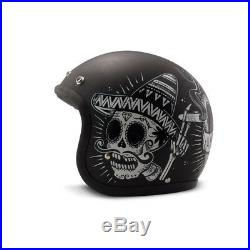with_helmet: (56, 50, 215, 198)
